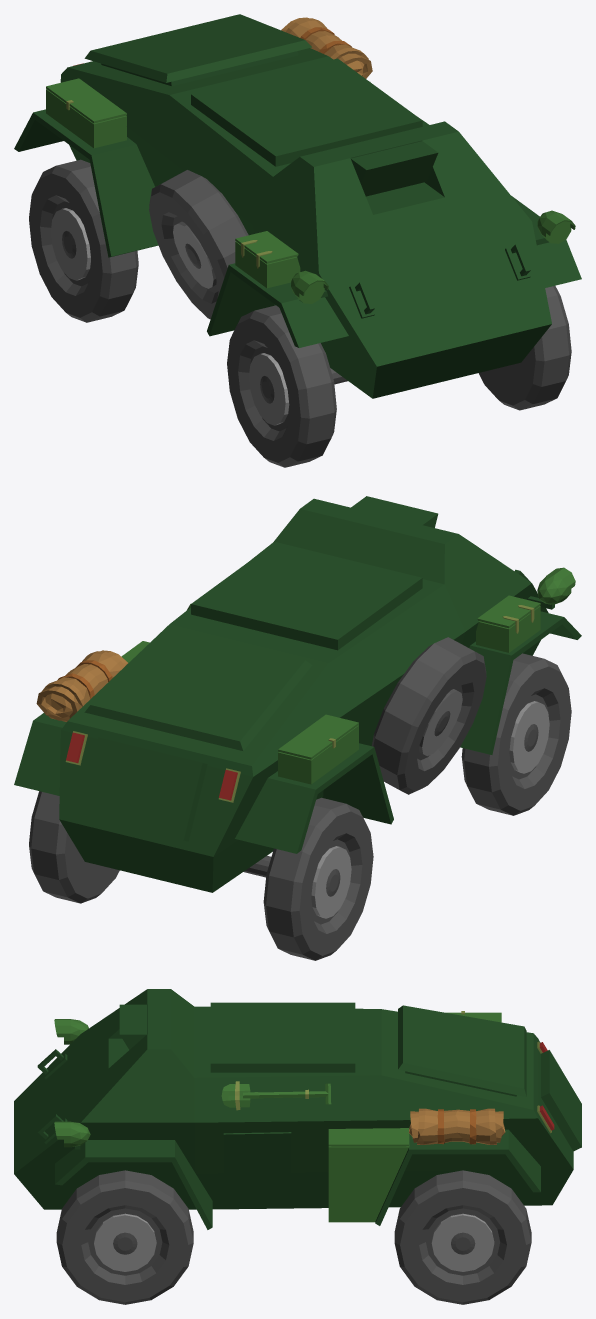
The model's file is Humber Armoured Car Finishing Tire Animation.fbx.
The picture shows the model from 3 angles, top to bottom: view 1: azimuth 30°, elevation 25°; view 2: azimuth 150°, elevation 25°; view 3: azimuth 270°, elevation 25°; orthographic projection. The views are drawn at different scales.
Parts seen in each view (by area): view 1: badan, Roda belakang.001, Roda belakang; view 2: badan, Roda belakang, Roda belakang.001; view 3: badan, Roda belakang, Roda belakang.001.
Boxes of the visible parts, bbox=[...] form: badan: bbox=[14, 14, 581, 398]; Roda belakang.001: bbox=[227, 286, 571, 467]; Roda belakang: bbox=[29, 159, 138, 322]; badan: bbox=[14, 496, 581, 892]; Roda belakang: bbox=[29, 791, 373, 960]; Roda belakang.001: bbox=[461, 653, 571, 815]; badan: bbox=[14, 989, 581, 1229]; Roda belakang: bbox=[394, 1170, 531, 1304]; Roda belakang.001: bbox=[56, 1170, 193, 1304].
Size of the model in its own units: 227 by 204 by 454.
